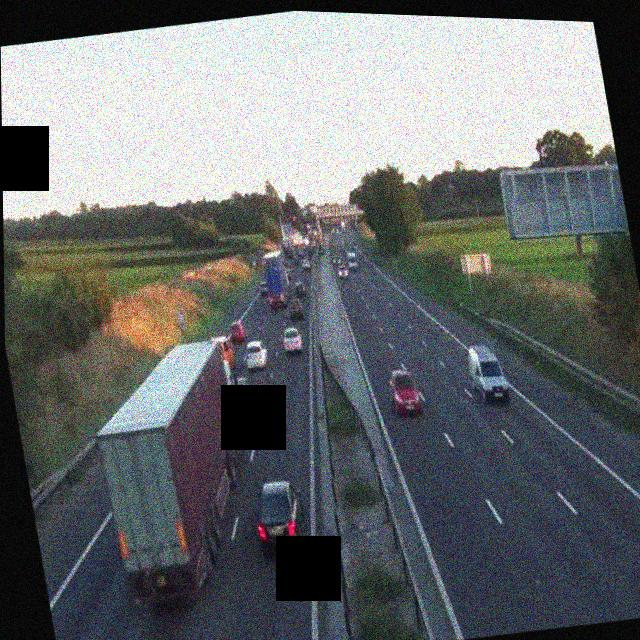car: (249, 475, 309, 556), (464, 340, 510, 407), (386, 367, 424, 418), (232, 374, 257, 415), (242, 337, 269, 371), (214, 338, 237, 375), (281, 326, 305, 356), (229, 320, 249, 347), (286, 297, 305, 320), (337, 263, 349, 280), (257, 281, 268, 298), (299, 257, 309, 271)
truck: (81, 331, 272, 612), (259, 248, 290, 310)
